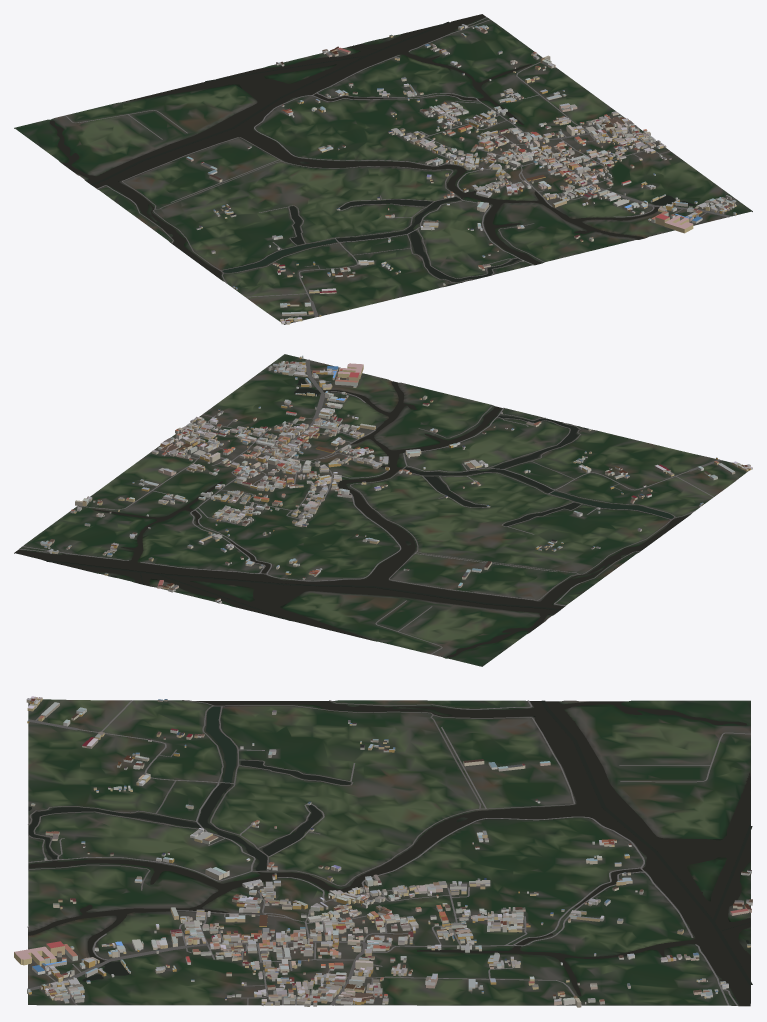
3 renders of one model, top to bottom at view 1: azimuth 30°, elevation 25°; view 2: azimuth 150°, elevation 25°; view 3: azimuth 270°, elevation 25°, orthographic. The views are drawn at different scales.
Parts seen in each view (by area): view 1: ground, water, buildings, roads; view 2: ground, water, buildings, roads; view 3: ground, water, buildings, roads.
Boxes of the visible parts, x1,y1,x2,y2 form: ground: [14, 17, 752, 324]; water: [49, 14, 695, 285]; buildings: [186, 24, 736, 324]; roads: [65, 17, 734, 324]; ground: [14, 354, 748, 666]; water: [15, 378, 689, 657]; buildings: [40, 355, 752, 603]; roads: [19, 359, 721, 654]; ground: [28, 699, 750, 1006]; water: [28, 700, 752, 1005]; buildings: [14, 696, 752, 1007]; roads: [27, 700, 750, 1005].
Size of the model in its own units: 1413 by 24.2 by 1432.
